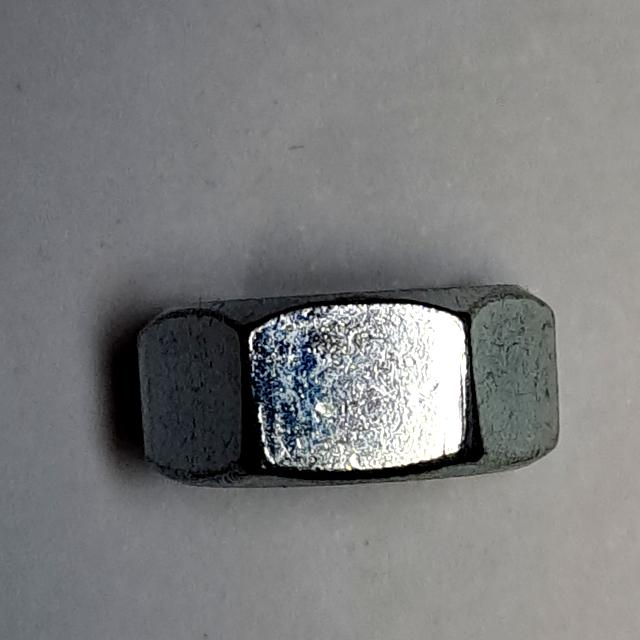Side_Excellent: (117, 267, 577, 528)
